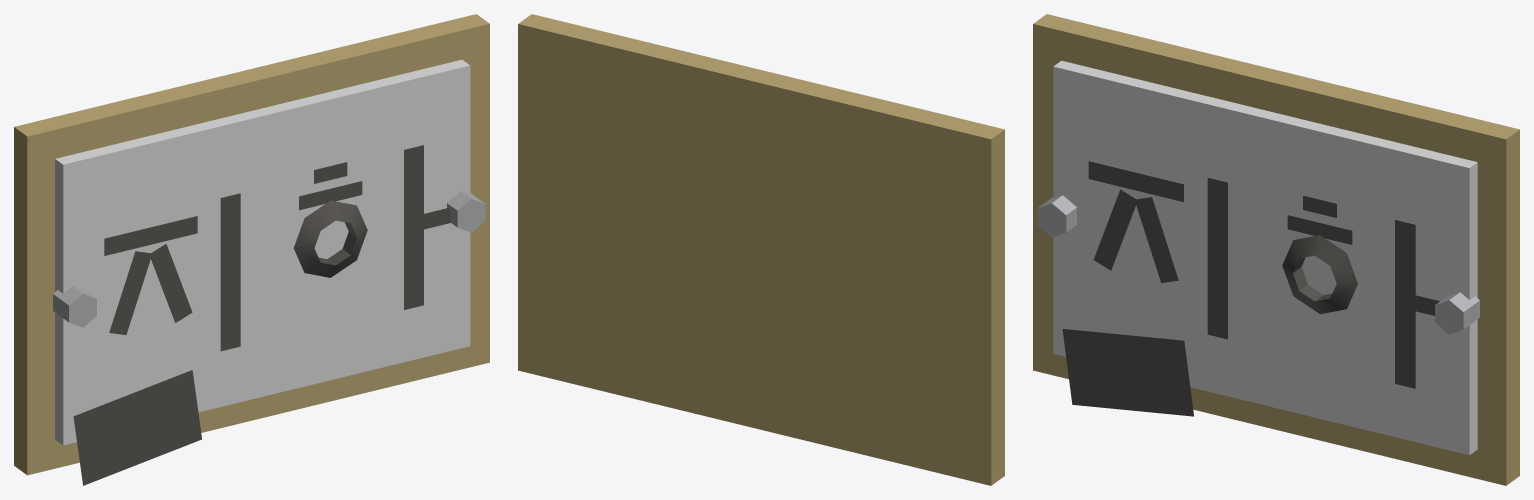
File: Dress_DoorPlate.fbx
3 views of the same model, side by side, from view 1: azimuth 30°, elevation 25°; view 2: azimuth 150°, elevation 25°; view 3: azimuth 330°, elevation 25° (orthographic). The views are drawn at different scales.
Parts seen in each view (by area): view 1: Dress_DoorPlate; view 2: Dress_DoorPlate; view 3: Dress_DoorPlate.
Part boxes in pixels (x1,y1,x2,y2): Dress_DoorPlate: [14, 14, 489, 485]; Dress_DoorPlate: [518, 14, 1004, 485]; Dress_DoorPlate: [1033, 14, 1519, 485].
Bounding box in the file's own units: 20 × 14.65 × 2.4.
